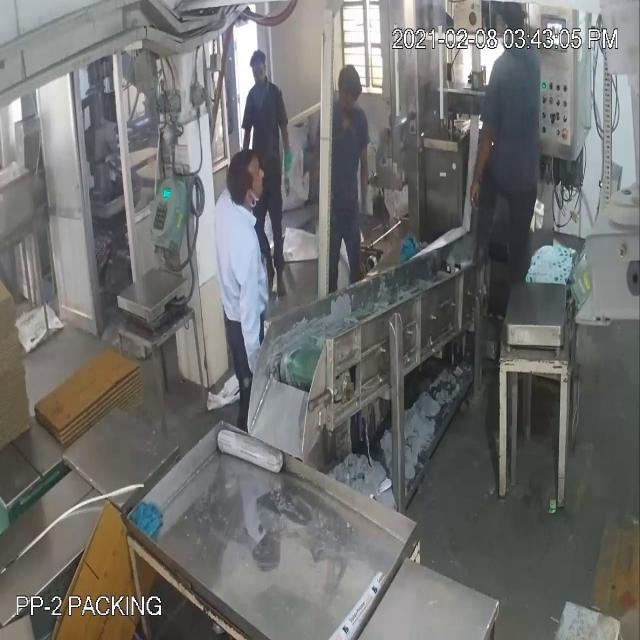No_Gloves: (20, 68, 481, 181)
